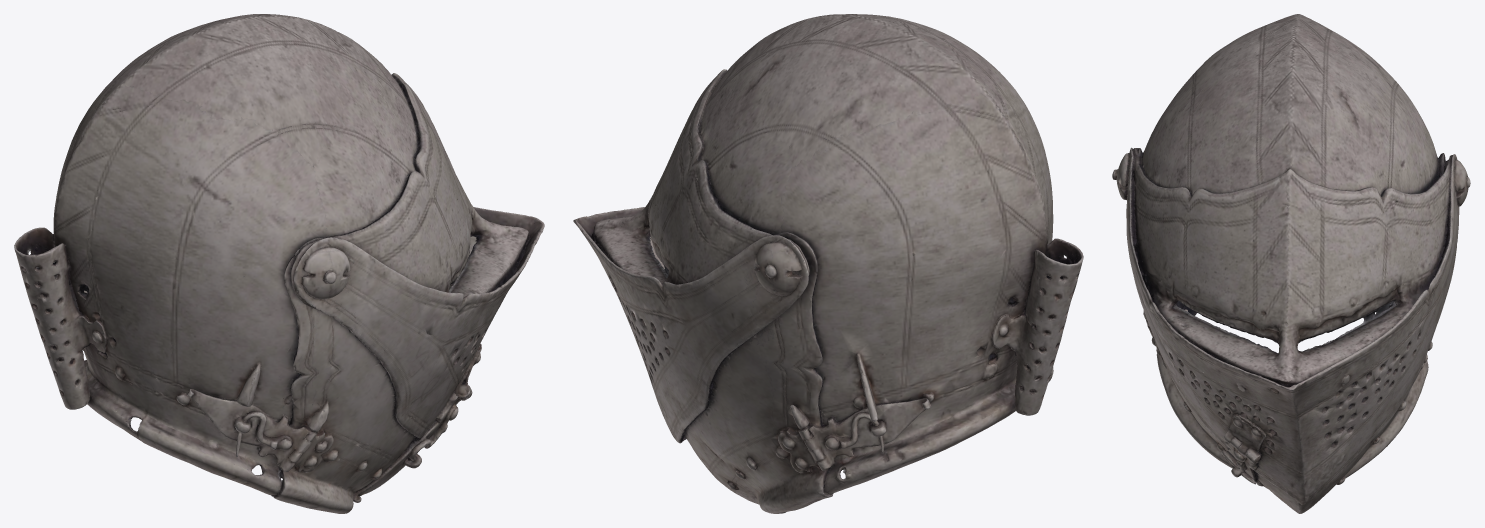
Rendered from jousting-helmet-balanced.glb.
3 renders of one model, left to right at view 1: azimuth 30°, elevation 25°; view 2: azimuth 150°, elevation 25°; view 3: azimuth 270°, elevation 25°, orthographic. The views are drawn at different scales.
Parts seen in each view (by area): view 1: Object_6, Object_5, Object_7, Object_12, Object_8, Object_11, Object_10, Object_4, Object_9, Object_2, Object_3; view 2: Object_2, Object_7, Object_4, Object_10, Object_6, Object_9, Object_11, Object_8, Object_3, Object_12, Object_5; view 3: Object_5, Object_6, Object_7, Object_3, Object_10, Object_4, Object_9, Object_2, Object_12, Object_8, Object_11.
Part boxes in pixels (bbox=[...]): Object_6: bbox=[54, 55, 544, 434]; Object_5: bbox=[262, 22, 542, 487]; Object_7: bbox=[91, 85, 405, 496]; Object_12: bbox=[14, 86, 544, 408]; Object_8: bbox=[87, 305, 465, 512]; Object_11: bbox=[14, 134, 470, 512]; Object_10: bbox=[14, 14, 364, 478]; Object_4: bbox=[282, 48, 527, 478]; Object_9: bbox=[40, 63, 473, 513]; Object_2: bbox=[53, 22, 480, 404]; Object_3: bbox=[280, 260, 528, 470]; Object_2: bbox=[672, 25, 1046, 452]; Object_7: bbox=[663, 42, 1053, 503]; Object_4: bbox=[594, 46, 880, 513]; Object_10: bbox=[631, 14, 1073, 498]; Object_6: bbox=[573, 23, 1053, 384]; Object_9: bbox=[662, 57, 1056, 493]; Object_11: bbox=[820, 135, 1083, 439]; Object_8: bbox=[632, 70, 1015, 417]; Object_3: bbox=[643, 267, 844, 511]; Object_12: bbox=[573, 77, 1083, 384]; Object_5: bbox=[580, 21, 800, 350]; Object_5: bbox=[1126, 49, 1427, 485]; Object_6: bbox=[1199, 20, 1444, 443]; Object_7: bbox=[1161, 37, 1468, 513]; Object_3: bbox=[1193, 349, 1428, 513]; Object_10: bbox=[1184, 14, 1392, 496]; Object_4: bbox=[1126, 65, 1454, 484]; Object_9: bbox=[1160, 122, 1380, 488]; Object_2: bbox=[1207, 14, 1459, 500]; Object_12: bbox=[1112, 60, 1465, 412]; Object_8: bbox=[1144, 119, 1470, 487]; Object_11: bbox=[1143, 301, 1259, 483].
Bounding box in the file's own units: 1.09 × 1.02 × 0.7728.
Materials: 1 (1 with a texture image).
